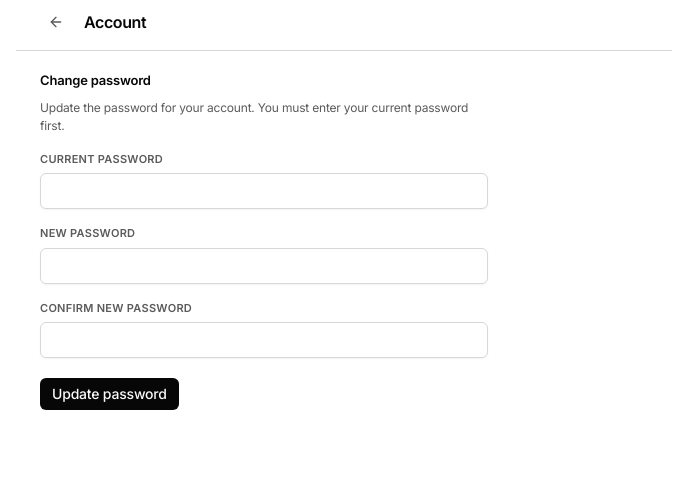
Test: AccountSettings › submits current+new password to the API on success
The image size is (689, 481).
Step 1. Type "oldsecret" into the password field labelled "Current password" → x=264, y=191, box 40,173 -> 488,209
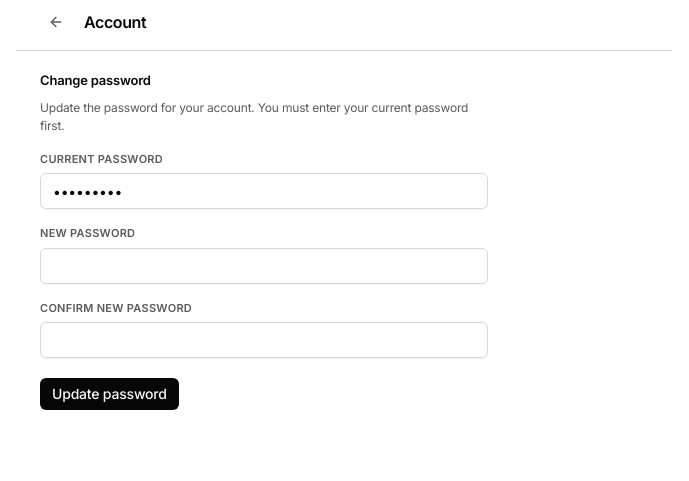
Step 2. Type "newsecret" into the password field labelled "New password" → x=264, y=266, box 40,248 -> 488,284
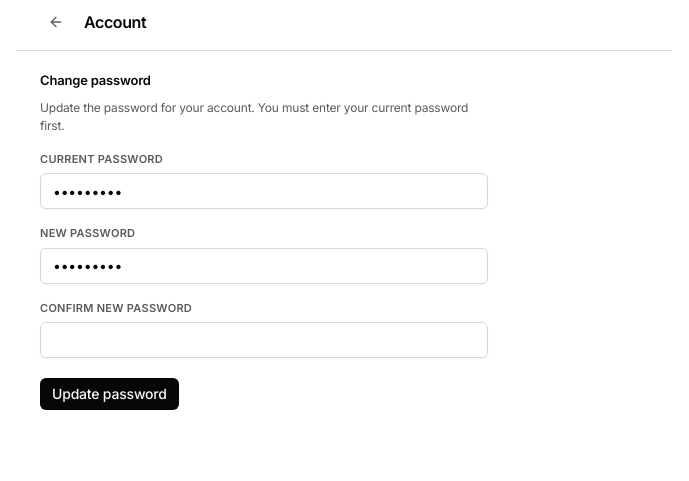
Step 3. Type "newsecret" into the password field labelled "Confirm new password" → x=264, y=340, box 40,322 -> 488,358
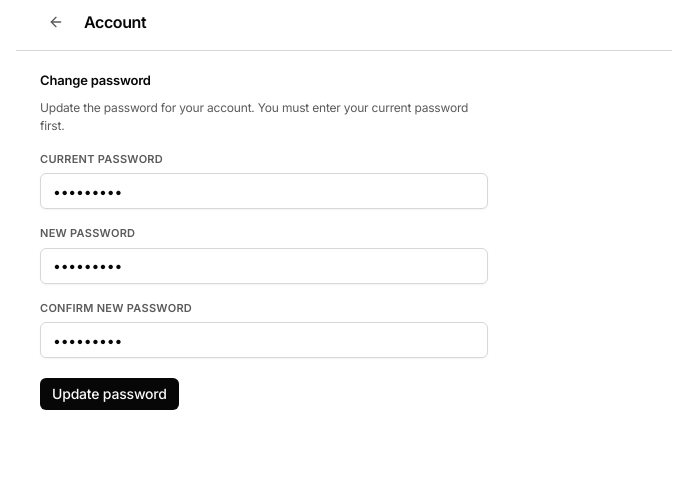
Step 4. Submit the form, box 40,71 -> 488,410
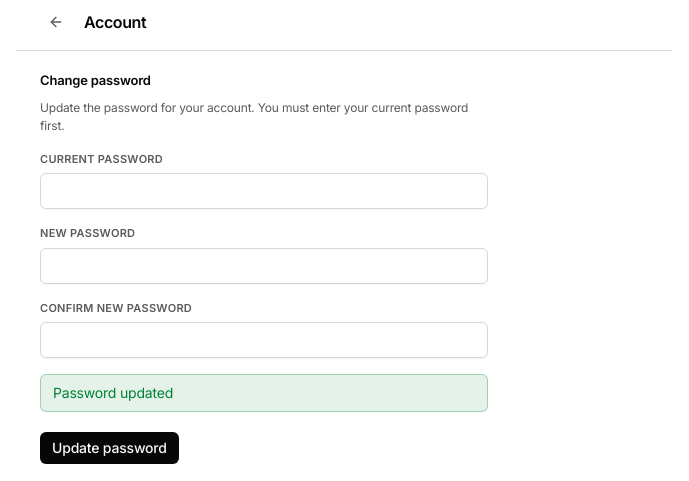
Expected: the text "Password updated" is shown, 40,374 -> 488,412
